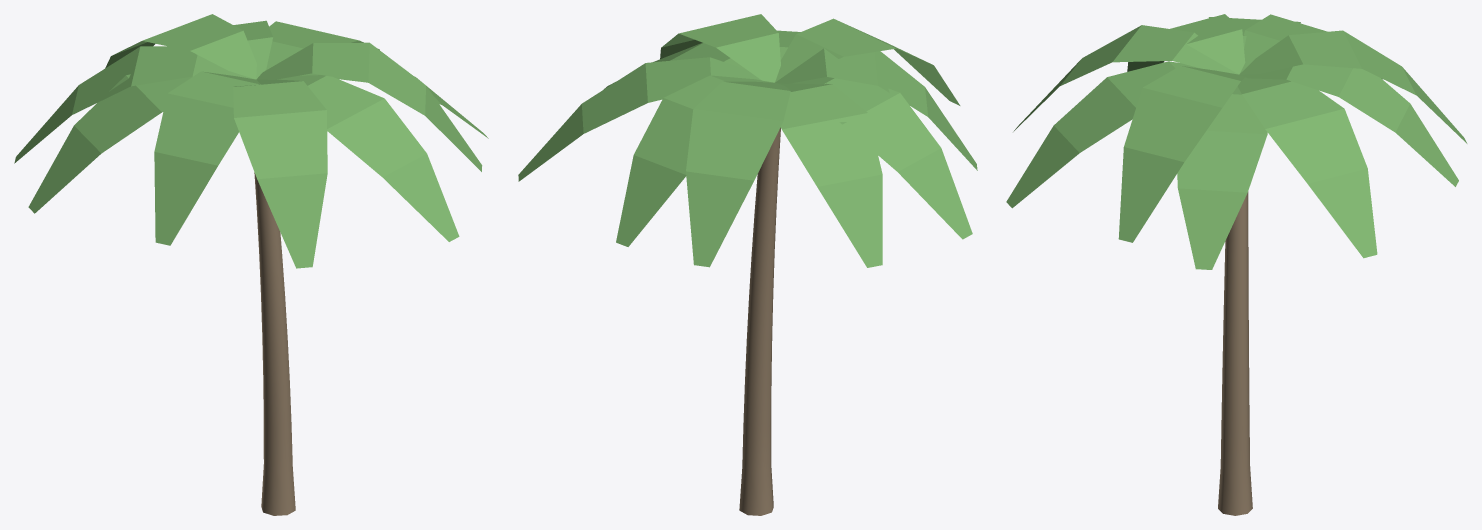
File: palm_c.glb
3 views of the same model, side by side, from view 1: azimuth 30°, elevation 25°; view 2: azimuth 150°, elevation 25°; view 3: azimuth 270°, elevation 25° (orthographic).
Parts seen in each view (by area): view 1: Palm; view 2: Palm; view 3: Palm.
Boxes of the visible parts, box(x1,y1,x2,y2) form: Palm: box(14, 14, 488, 515); Palm: box(518, 14, 977, 515); Palm: box(1006, 14, 1467, 515).
Bounding box in the file's own units: 8.75 × 8.98 × 8.43.
